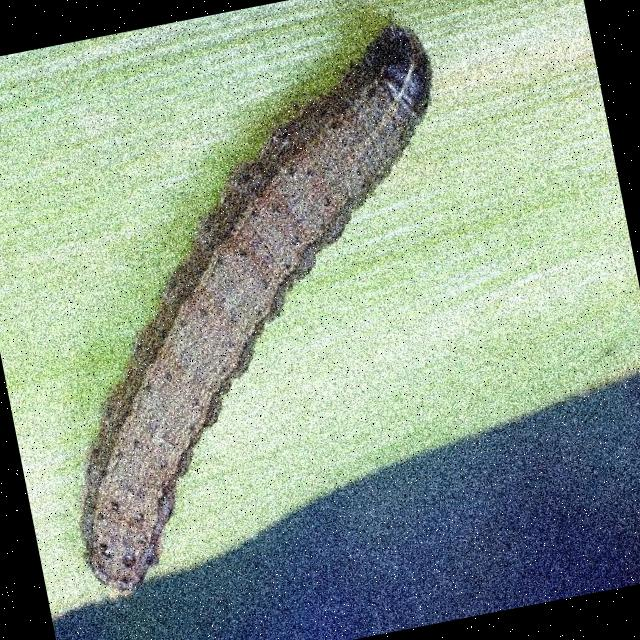worm: (1, 17, 522, 604)
